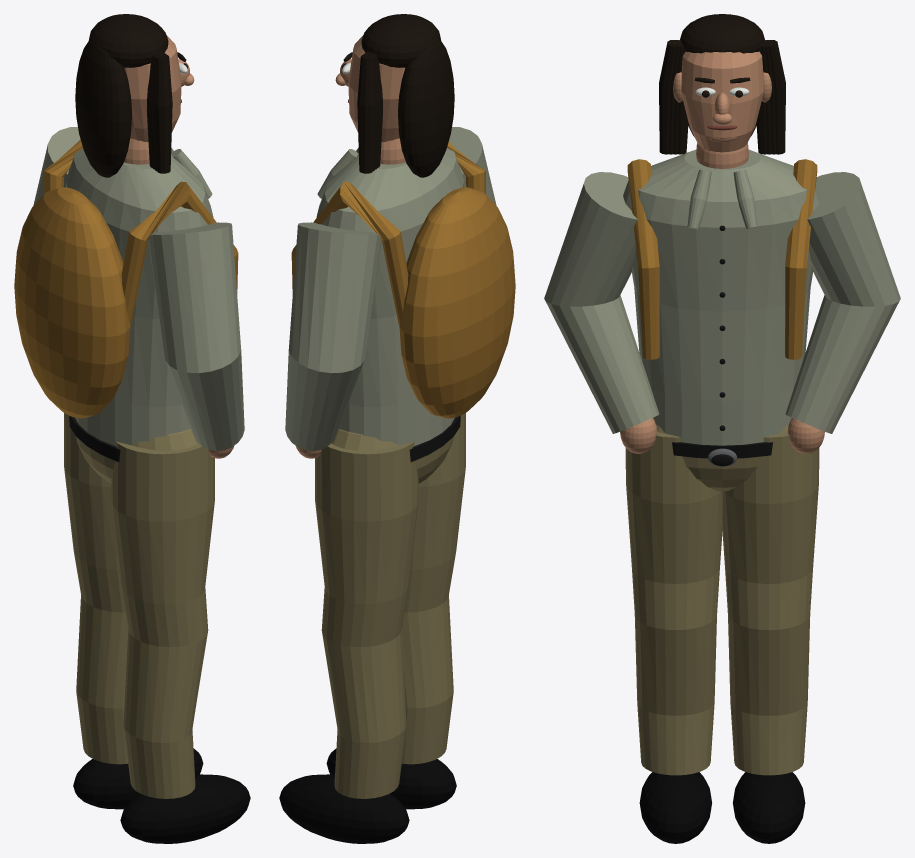
Rendered from person.dae.
3 views of the same model, side by side, from view 1: azimuth 30°, elevation 25°; view 2: azimuth 150°, elevation 25°; view 3: azimuth 270°, elevation 25° (orthographic).
Parts seen in each view (by area): view 1: Person; view 2: Person; view 3: Person.
Boxes of the visible parts, <box> form: Person: <box>14,14,250,843</box>; Person: <box>279,14,515,843</box>; Person: <box>544,14,900,843</box>.
Bounding box in the file's own units: 0.4412 × 0.7314 × 1.8.
